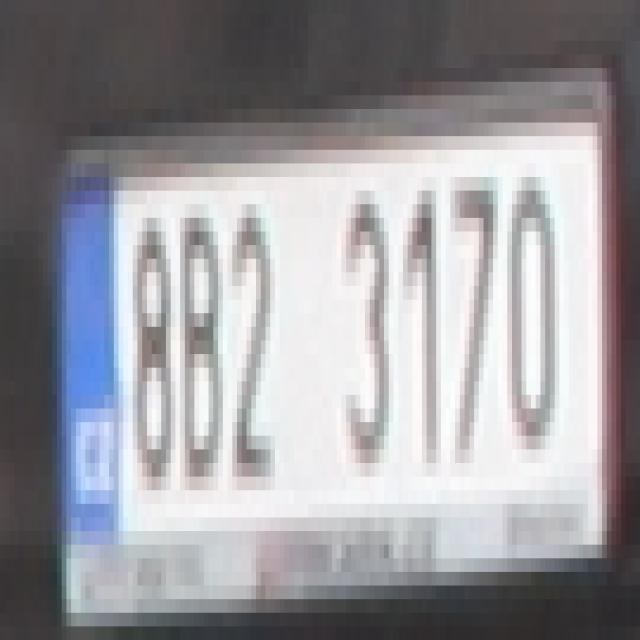0: (498, 177, 559, 490)
1: (398, 163, 441, 463)
2: (228, 190, 275, 477)
3: (332, 177, 389, 449)
7: (450, 150, 498, 477)
8: (118, 204, 170, 463)
B: (180, 204, 223, 477)
